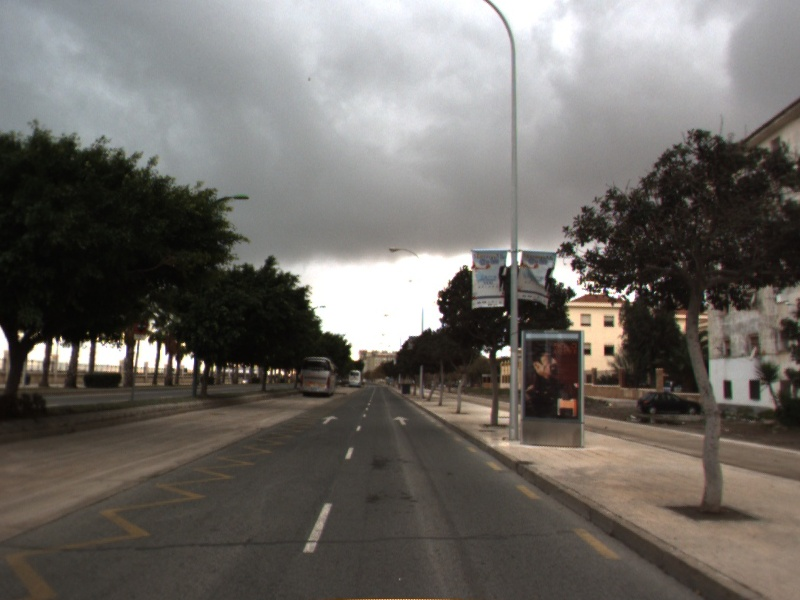STRAIGHT: (391, 414, 412, 427), (321, 414, 340, 426)
